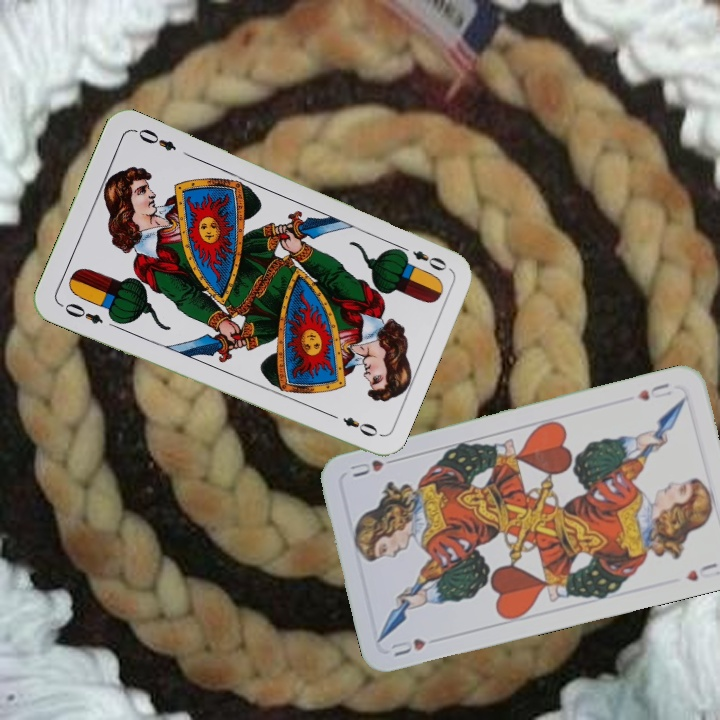EO: (394, 241, 450, 274), (56, 298, 106, 327)
HU: (387, 634, 428, 659), (633, 379, 675, 403)
